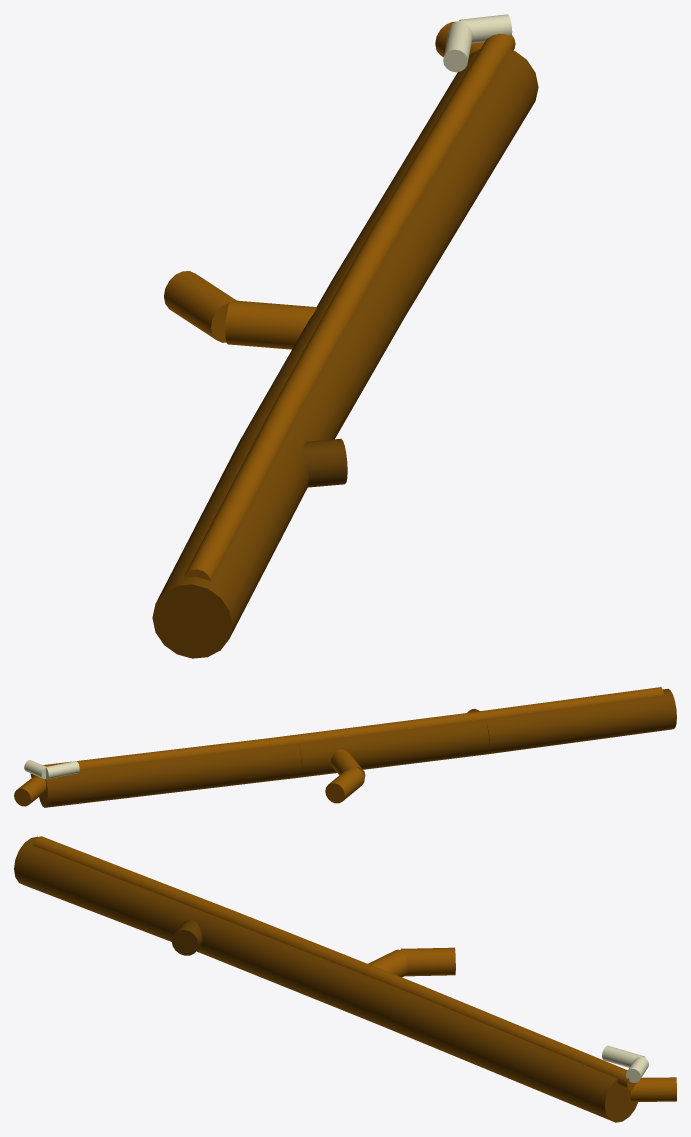
File: CMU3DFishingRodMakeshiftNaturalFinalCloud.glb
3 renders of one model, top to bottom at view 1: azimuth 30°, elevation 25°; view 2: azimuth 150°, elevation 25°; view 3: azimuth 270°, elevation 25°, orthographic. The views are drawn at different scales.
Parts seen in each view (by area): view 1: uneven wooden makeshift rod segment 1, uneven wooden makeshift rod segment 3, uneven wooden makeshift rod segment 2, lighter exposed branch ridge segment 3, lighter exposed branch ridge segment 1, lighter exposed branch ridge segment 2, crooked upper fork twig segment 1, crooked upper fork twig segment 2, short lower broken twig segment 1, string binding at upper tip segment 1, string binding at upper tip segment 2; view 2: uneven wooden makeshift rod segment 3, uneven wooden makeshift rod segment 1, uneven wooden makeshift rod segment 2, lighter exposed branch ridge segment 3, lighter exposed branch ridge segment 1, lighter exposed branch ridge segment 2, crooked upper fork twig segment 2, broken upper tip segment 1, crooked upper fork twig segment 1, string binding at upper tip segment 1, string binding at upper tip segment 2; view 3: uneven wooden makeshift rod segment 3, uneven wooden makeshift rod segment 2, uneven wooden makeshift rod segment 1, lighter exposed branch ridge segment 3, lighter exposed branch ridge segment 1, lighter exposed branch ridge segment 2, crooked upper fork twig segment 2, broken upper tip segment 1, short lower broken twig segment 1, crooked upper fork twig segment 1, string binding at upper tip segment 1.
Boxes of the visible parts, bbox=[...] form: uneven wooden makeshift rod segment 1: bbox=[152, 423, 308, 658]; uneven wooden makeshift rod segment 3: bbox=[332, 49, 538, 316]; uneven wooden makeshift rod segment 2: bbox=[240, 264, 407, 441]; lighter exposed branch ridge segment 3: bbox=[368, 34, 515, 240]; lighter exposed branch ridge segment 1: bbox=[183, 397, 300, 580]; lighter exposed branch ridge segment 2: bbox=[275, 230, 393, 407]; crooked upper fork twig segment 1: bbox=[225, 300, 317, 349]; crooked upper fork twig segment 2: bbox=[164, 271, 236, 342]; short lower broken twig segment 1: bbox=[303, 438, 347, 487]; string binding at upper tip segment 1: bbox=[443, 21, 472, 72]; string binding at upper tip segment 2: bbox=[459, 14, 512, 43]; uneven wooden makeshift rod segment 3: bbox=[39, 743, 301, 807]; uneven wooden makeshift rod segment 1: bbox=[485, 688, 676, 754]; uneven wooden makeshift rod segment 2: bbox=[298, 719, 489, 777]; lighter exposed branch ridge segment 3: bbox=[30, 738, 270, 777]; lighter exposed branch ridge segment 1: bbox=[462, 687, 663, 721]; lighter exposed branch ridge segment 2: bbox=[268, 713, 464, 746]; crooked upper fork twig segment 2: bbox=[325, 767, 364, 803]; broken upper tip segment 1: bbox=[14, 776, 46, 806]; crooked upper fork twig segment 1: bbox=[331, 749, 365, 777]; string binding at upper tip segment 1: bbox=[46, 761, 79, 779]; string binding at upper tip segment 2: bbox=[24, 760, 46, 778]; uneven wooden makeshift rod segment 3: bbox=[370, 982, 637, 1122]; uneven wooden makeshift rod segment 2: bbox=[198, 912, 381, 1024]; uneven wooden makeshift rod segment 1: bbox=[14, 836, 204, 953]; lighter exposed branch ridge segment 3: bbox=[408, 983, 637, 1090]; lighter exposed branch ridge segment 1: bbox=[33, 836, 232, 919]; lighter exposed branch ridge segment 2: bbox=[225, 910, 416, 992]; crooked upper fork twig segment 2: bbox=[400, 947, 455, 976]; broken upper tip segment 1: bbox=[630, 1077, 676, 1101]; short lower broken twig segment 1: bbox=[171, 919, 202, 955]; crooked upper fork twig segment 1: bbox=[368, 949, 407, 977]; string binding at upper tip segment 1: bbox=[602, 1045, 644, 1067].
Bounding box in the file's own units: 0.6929 × 0.0745 × 0.7671.
